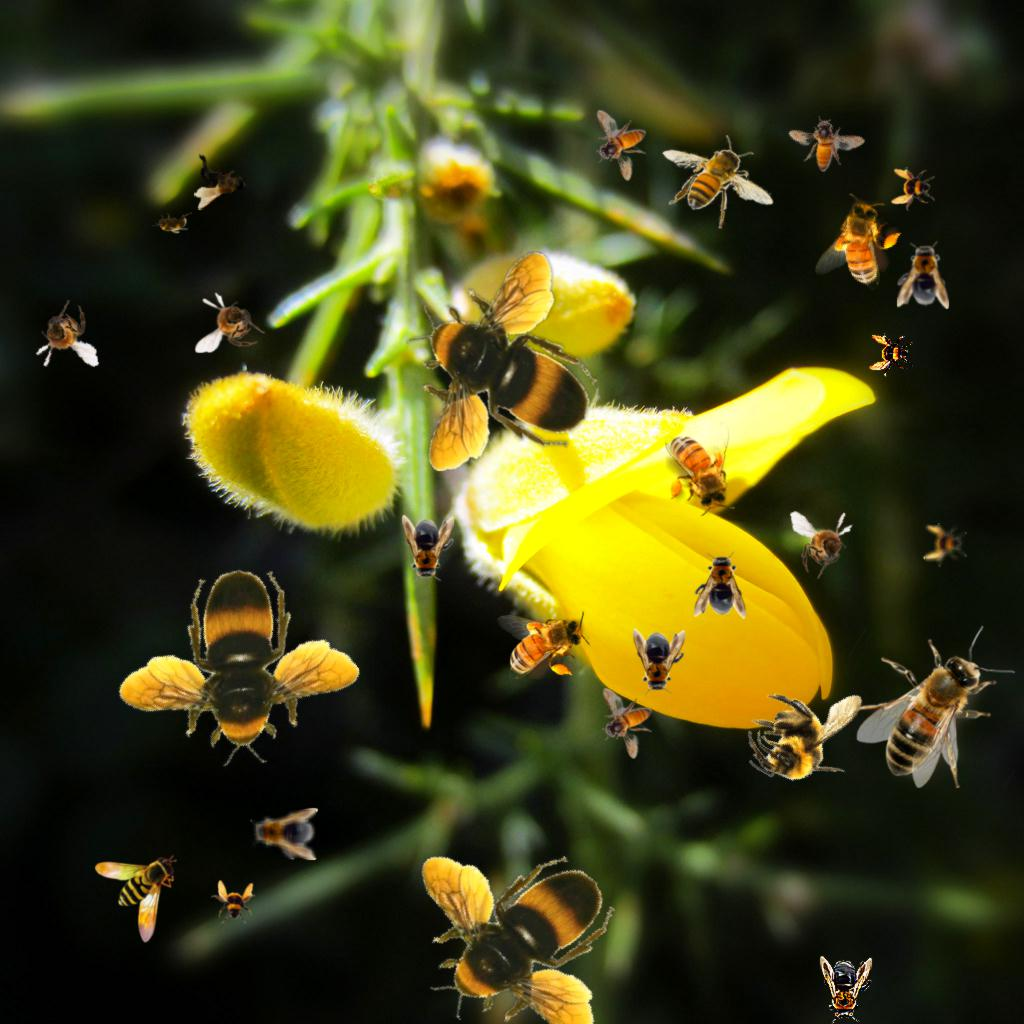Bee: (88, 532, 376, 811), (373, 807, 649, 1024), (406, 251, 597, 471), (848, 626, 1015, 788), (731, 654, 882, 809), (809, 187, 913, 302), (662, 134, 775, 230), (95, 855, 177, 943), (664, 421, 736, 518), (779, 104, 867, 183), (497, 611, 590, 679), (27, 296, 100, 376), (789, 504, 860, 582), (195, 292, 265, 353), (602, 688, 652, 759), (596, 110, 646, 181), (633, 628, 685, 696), (820, 956, 872, 1024), (250, 808, 318, 860), (694, 551, 746, 619), (897, 241, 949, 309), (402, 515, 454, 583), (194, 148, 247, 210), (923, 523, 967, 567), (869, 333, 913, 377), (211, 880, 255, 924), (891, 167, 935, 211), (152, 212, 192, 234)
